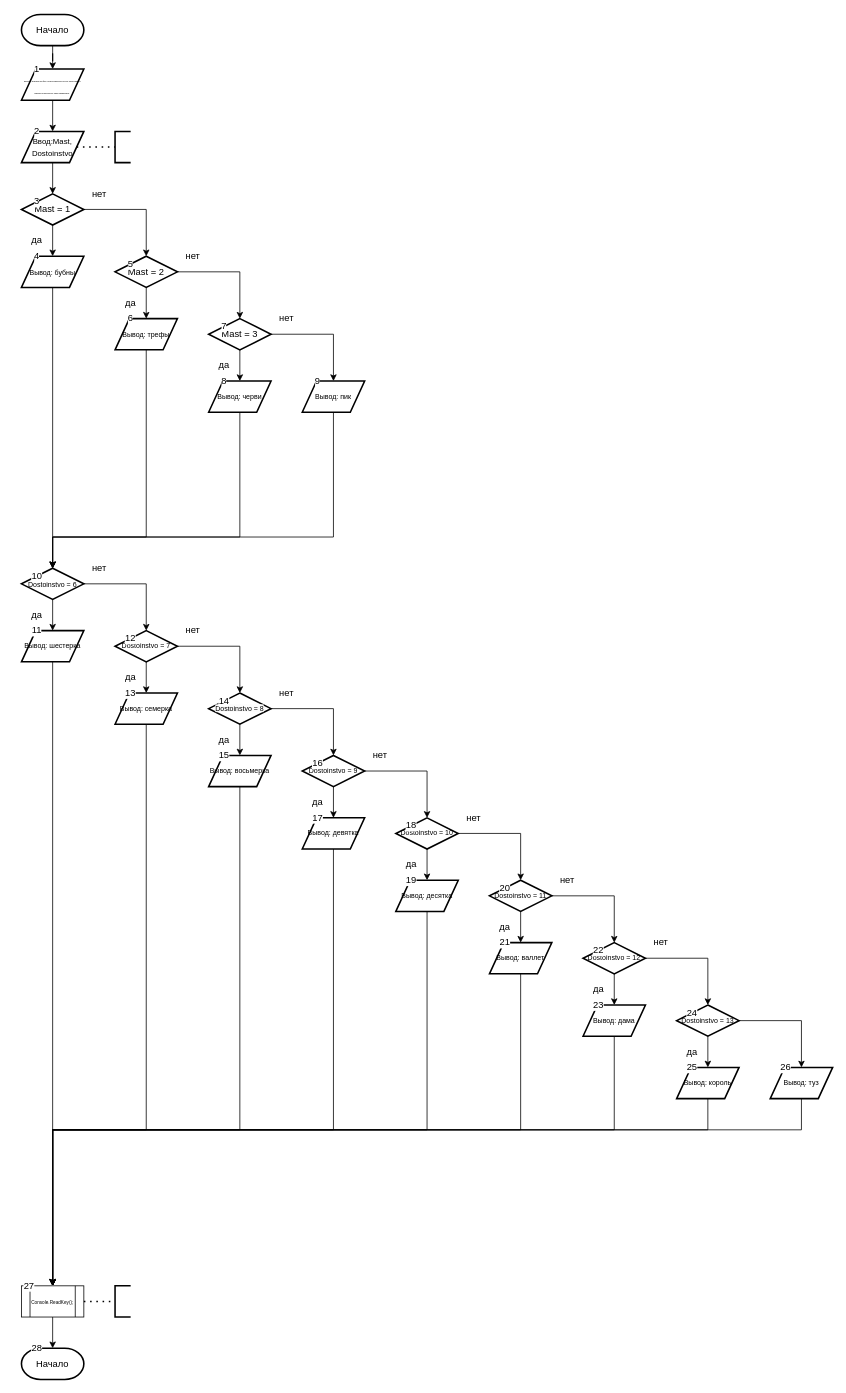
Image size: 846x1393. Some labels were removed from this diagram. Each missing label, with the centre of its shape:
вводим масти от 1 до 4 вводим достоинство от 6 до 14: the point at 122,146
приостанавливаем программу что бы увидить текст считыванием символа: the point at 122,1301
